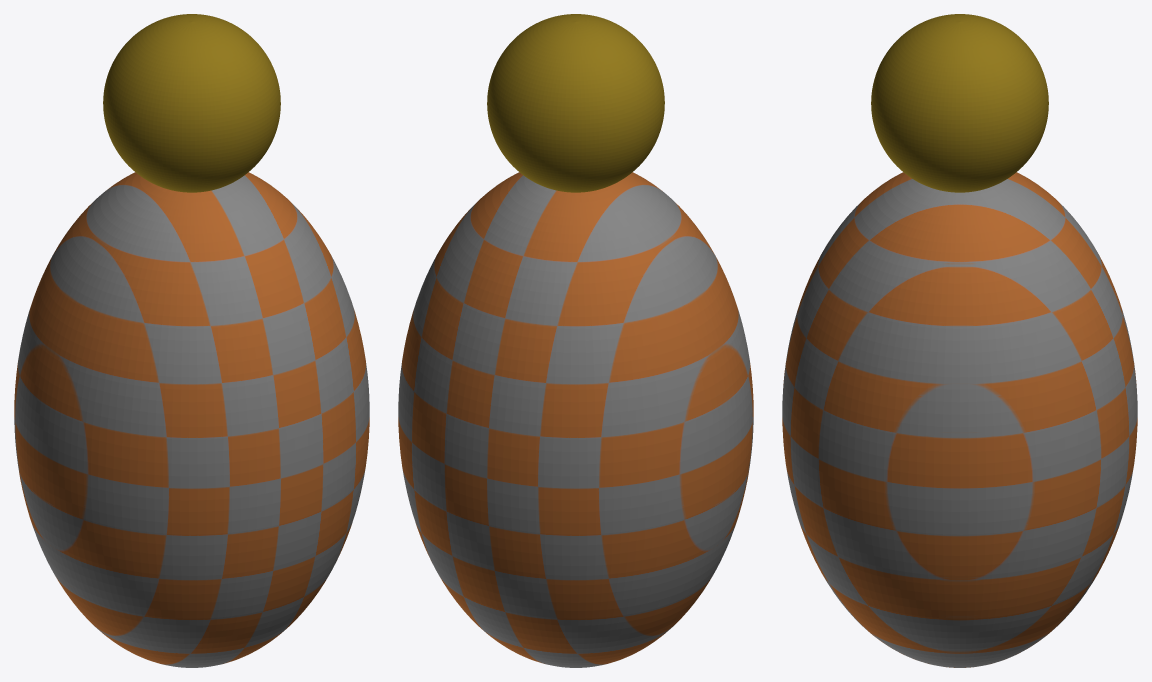
The model's file is BOD2_BMC3_BCC0_BPT4_FRC0_HEA0_HMC4_HCC0_HPT0_ELT0_ERT0_ELL0_ERL0_AP0_AAL0_AAR0_BEK0.fbx.
3 views of the same model, side by side, from view 1: azimuth 30°, elevation 25°; view 2: azimuth 150°, elevation 25°; view 3: azimuth 270°, elevation 25° (orthographic).
Parts seen in each view (by area): view 1: Body, Head; view 2: Body, Head; view 3: Body, Head.
Boxes of the visible parts, bbox=[...] form: Body: bbox=[14, 172, 369, 667]; Head: bbox=[103, 14, 280, 192]; Body: bbox=[398, 172, 753, 667]; Head: bbox=[487, 14, 664, 192]; Body: bbox=[782, 172, 1137, 667]; Head: bbox=[871, 14, 1048, 192].
Size of the model in its own units: 98.72 by 195 by 98.72.
2 materials, 2 textured.
